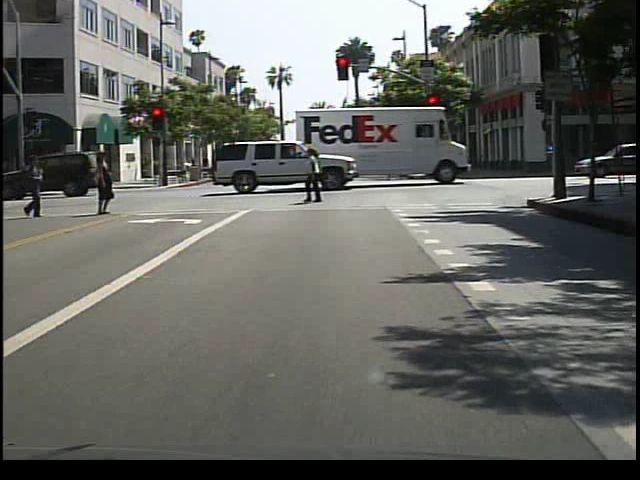person: (22, 153, 56, 220), (89, 151, 121, 218), (302, 146, 334, 206)
